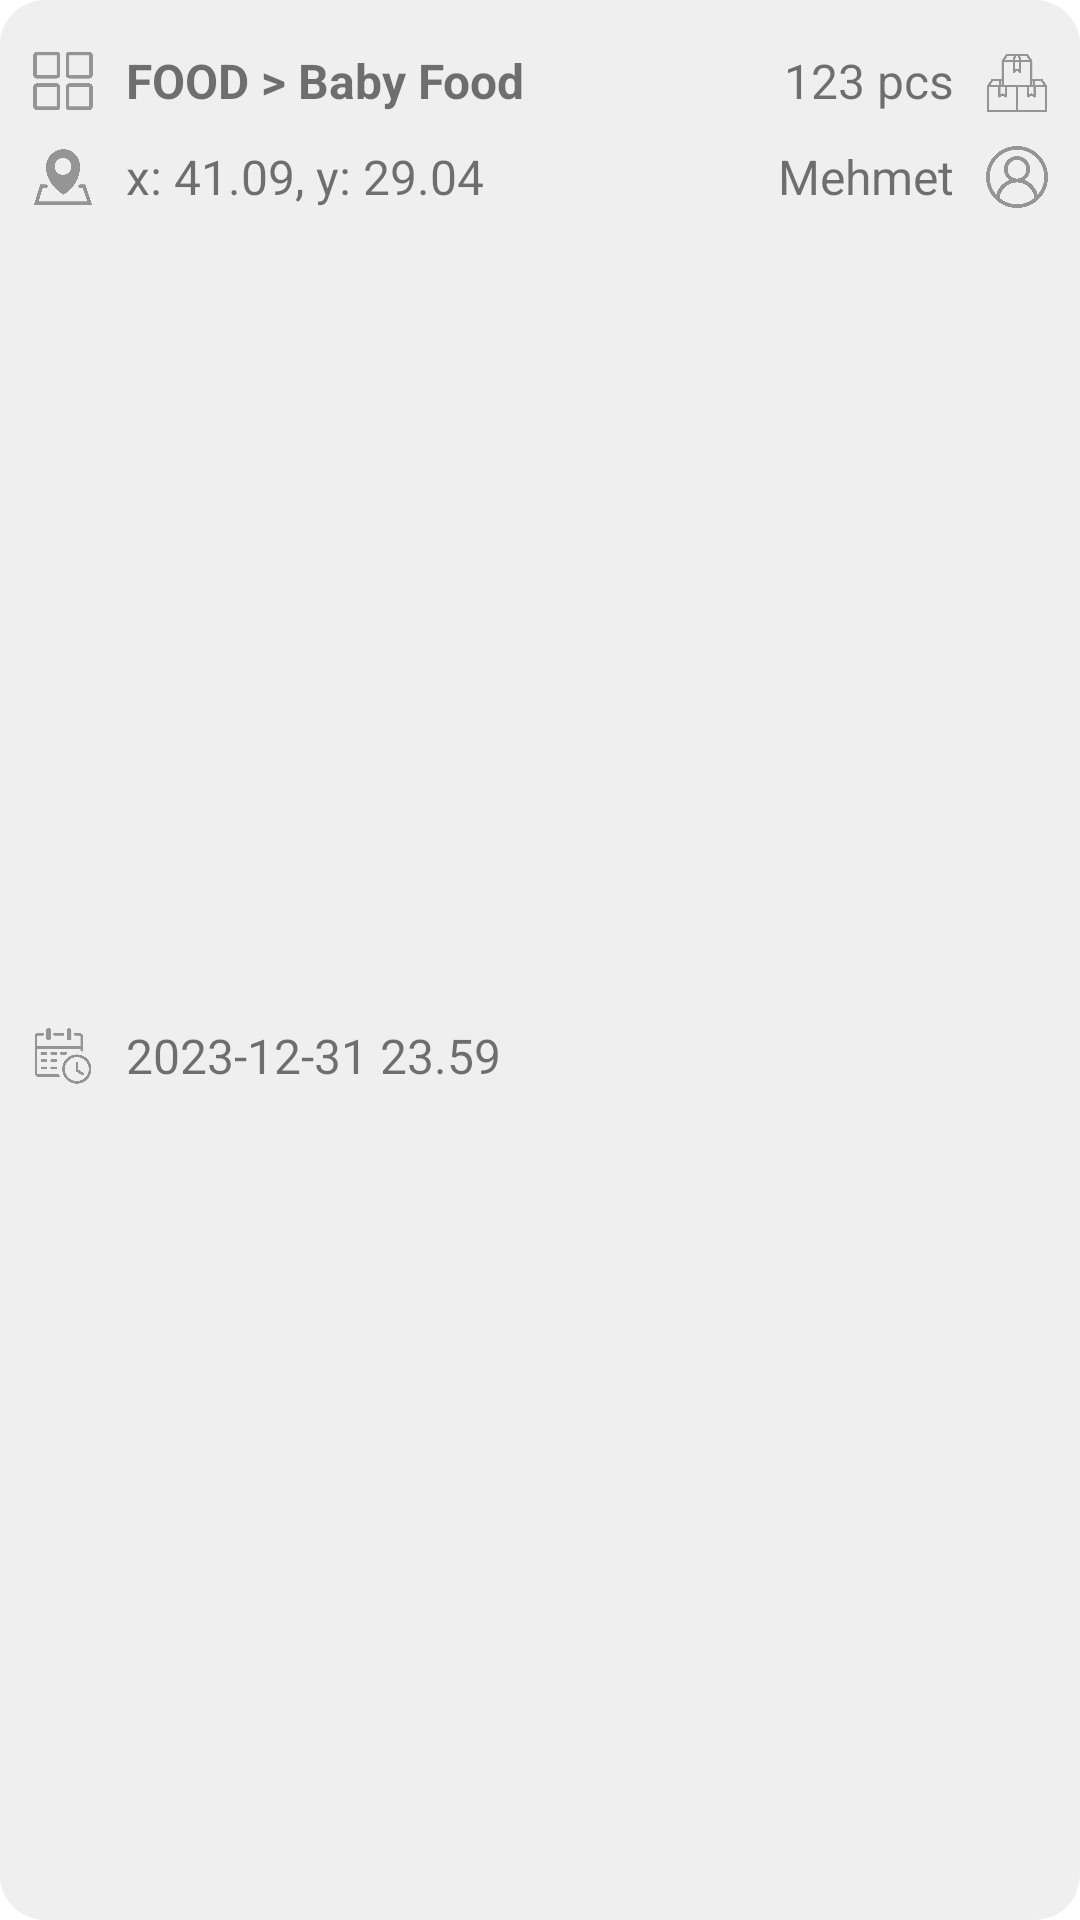

Named icons in this screenshot (1080w x 1920h) and their centers, [x,y]:
recyc category: [63,81]
recyc date time: [63,1056]
recyc location: [63,177]
recyc quantity: [1017,83]
recyc user: [1017,177]
